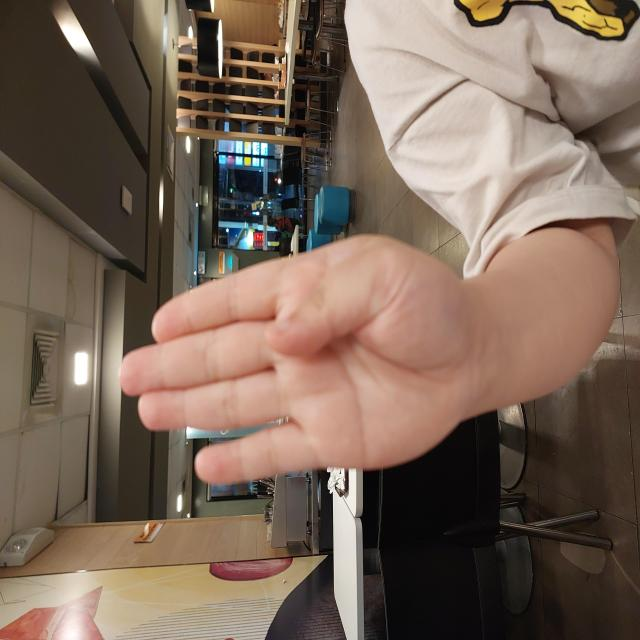B: (153, 116, 410, 479)
